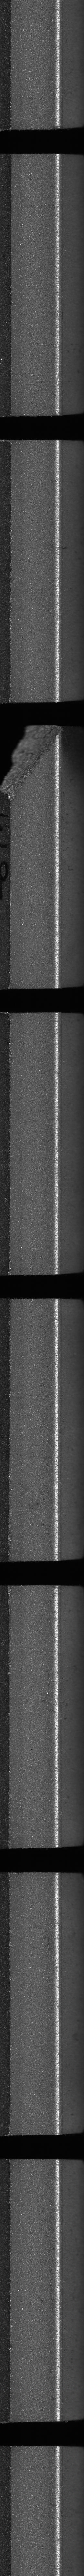Chip: (0, 721, 64, 808)
